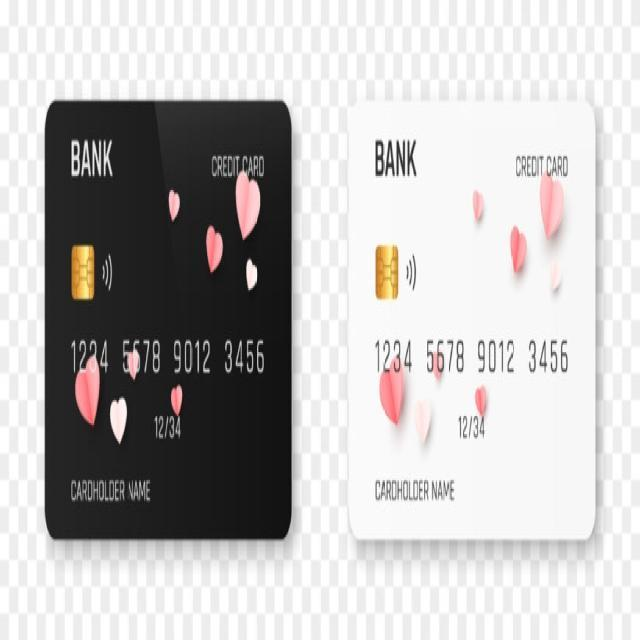payment_card: (346, 99, 597, 541), (43, 98, 292, 540)
